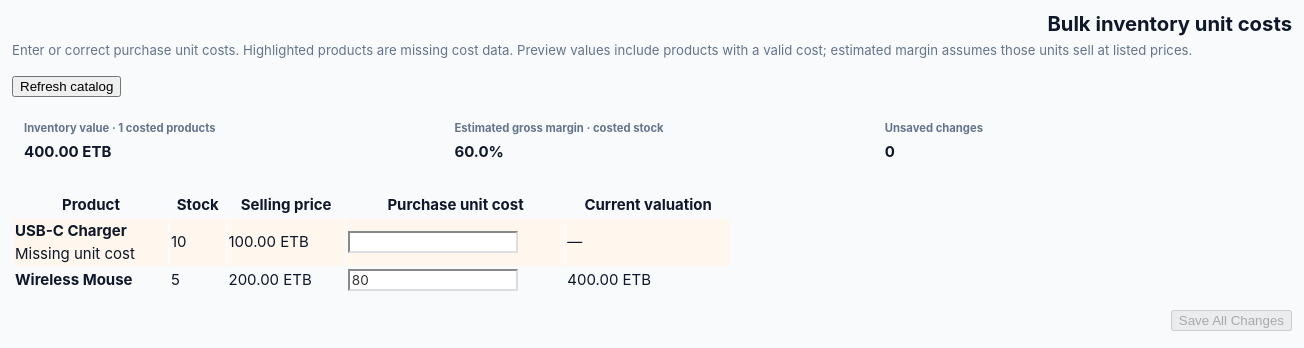
it: BulkCostUpdater › highlights missing costs and calculates live inventory and margin previews
Check: the text "Missing unit cost" is shown, box [15,244,135,263]
Check: the text "400.00 ETB" is shown 2 times, box [24,142,111,161]; [566,268,730,293]
Type "50" into the number field named "Unit cost for USB-C Charger".
click(433, 242); type("50")  # box [348,232,518,254]
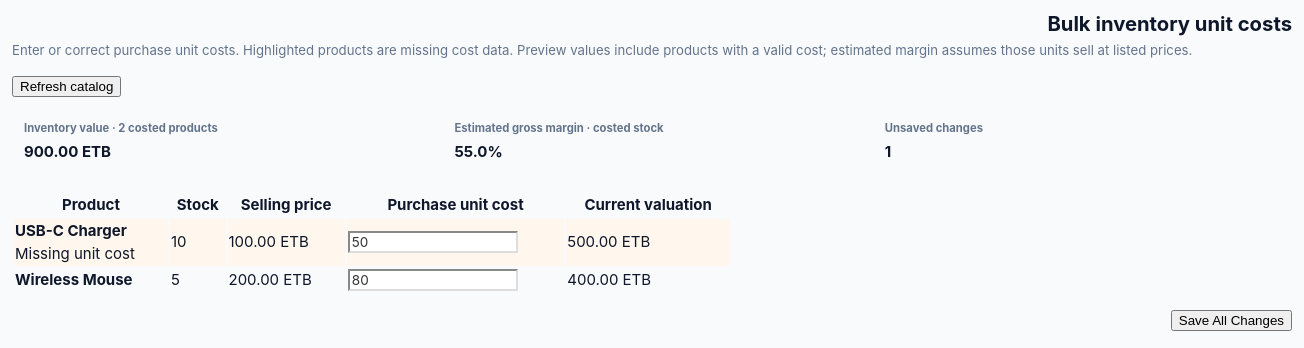
Check: the text "900.00 ETB" is shown, box [24,142,111,161]
Check: the text "55.0%" is shown, box [454,142,503,161]
Check: the text "1" is shown, box [885,142,891,161]
